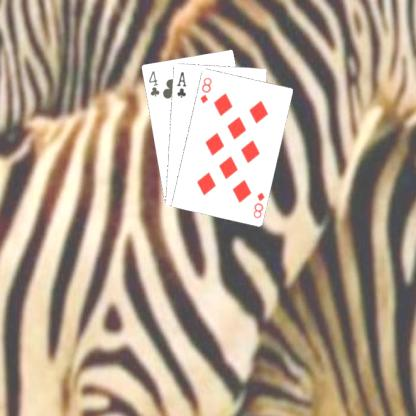4C: (145, 68, 161, 98)
8D: (197, 74, 213, 105), (250, 189, 266, 219)
AC: (174, 69, 188, 98)
